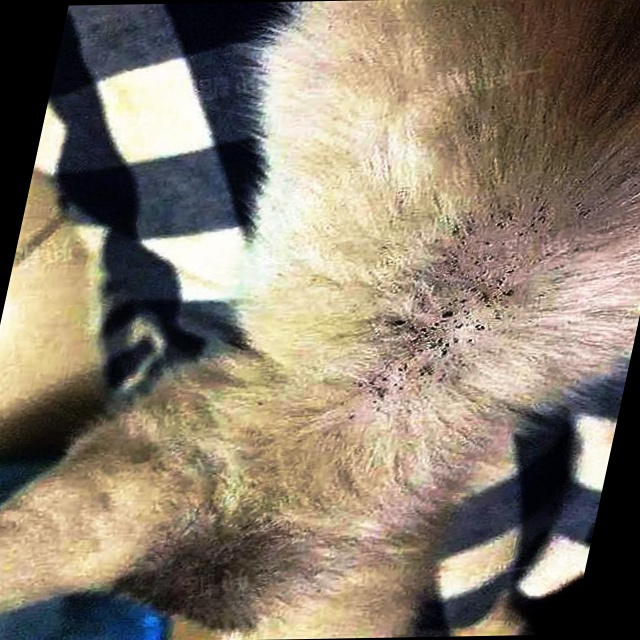acne: (340, 190, 562, 411)
